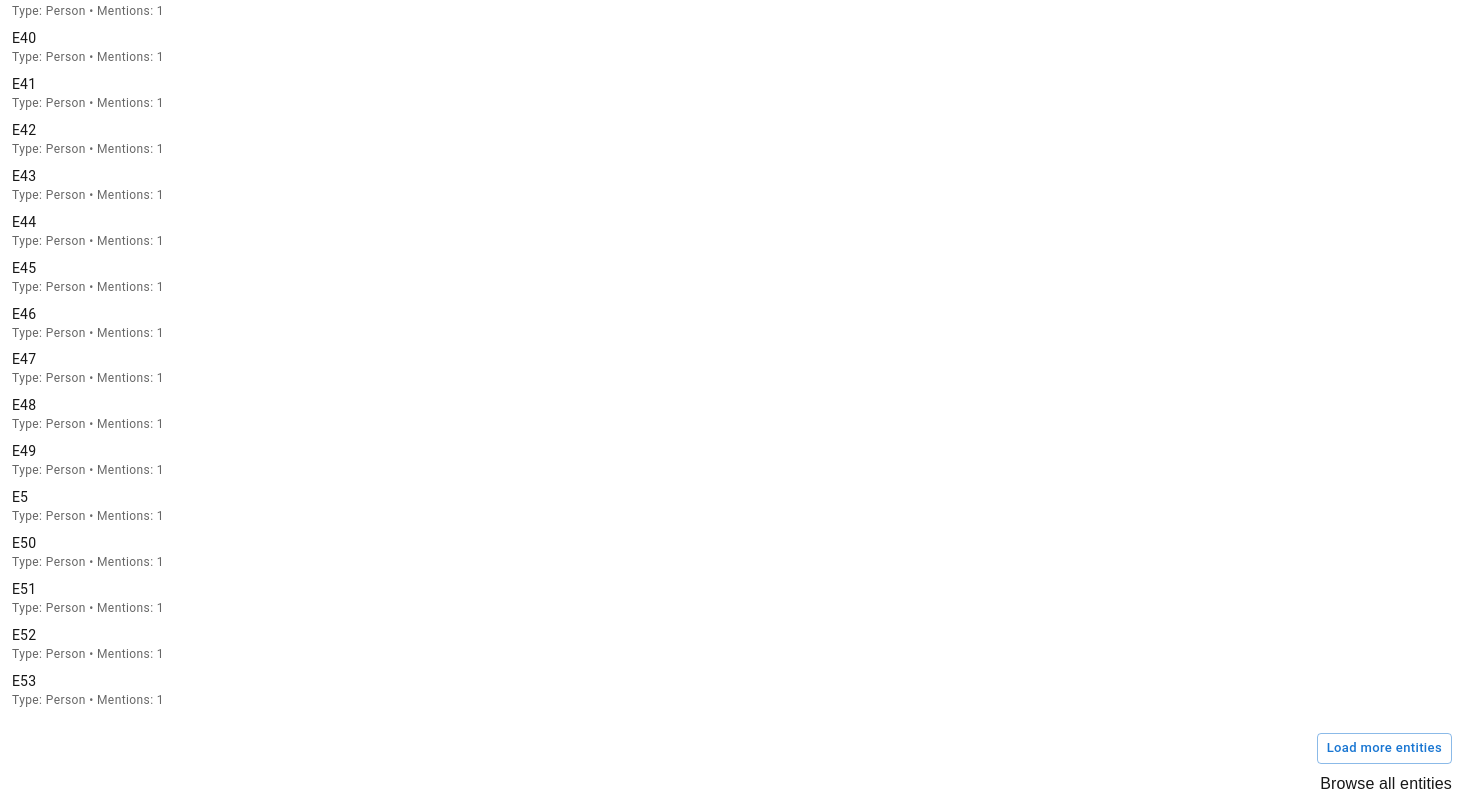
Test: DocumentEvidencePanel › handles load more entities
This screenshot has width=1464, height=796.
(page scrolled)
expect the text "E55" is not shown: met
Click the button "Load more entities" at (1384, 748), box [1317,733,1452,764]
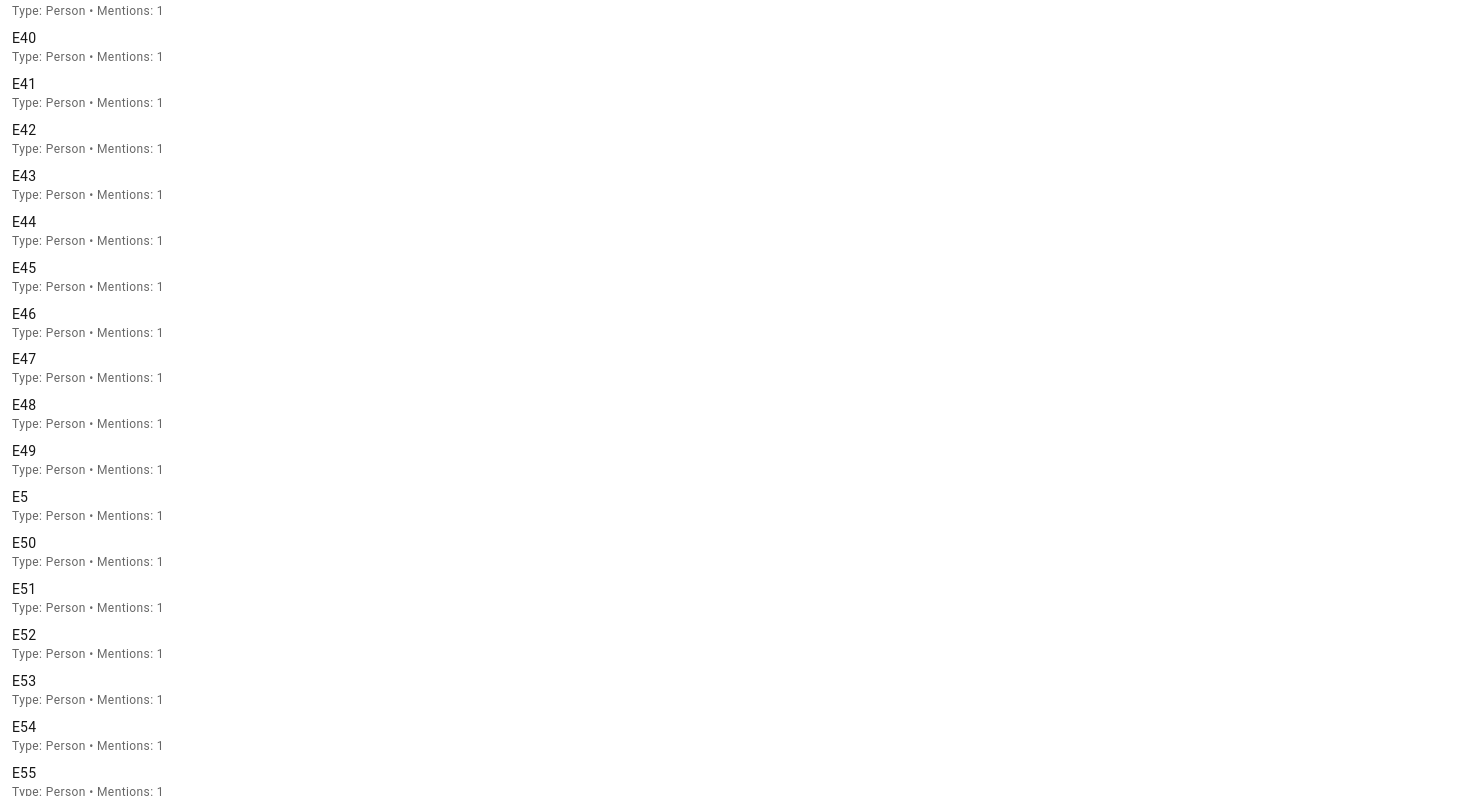
expect the text "E55" is shown: met, box [12,765,36,781]
